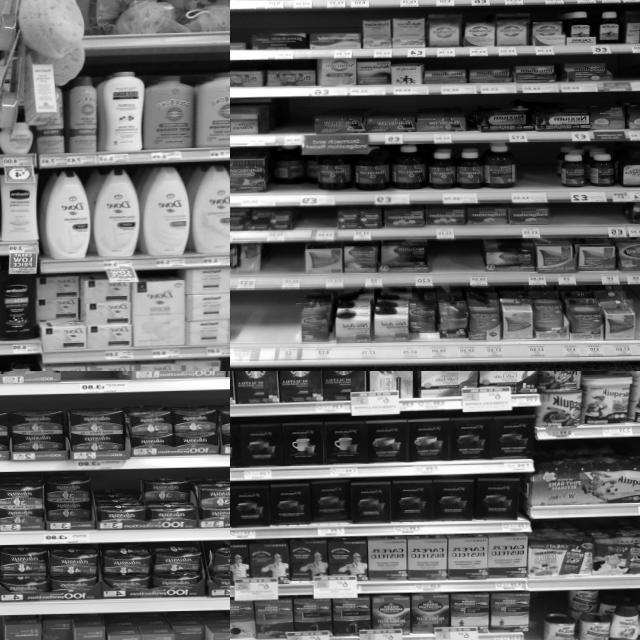empty: (260, 296, 300, 360), (552, 204, 624, 236), (518, 144, 556, 202), (434, 240, 481, 286), (230, 299, 259, 360), (268, 242, 304, 288), (298, 207, 336, 240), (280, 101, 308, 144), (61, 371, 109, 392), (614, 56, 640, 91), (634, 288, 640, 354)
